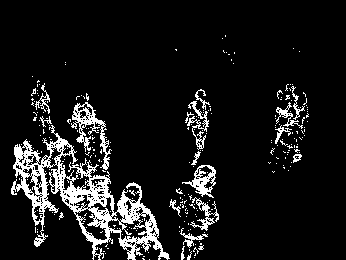person: (11, 143, 61, 247), (172, 162, 222, 258), (67, 175, 114, 254), (118, 182, 162, 260), (76, 102, 115, 169), (185, 86, 209, 166), (45, 135, 74, 191), (29, 78, 55, 138), (292, 90, 308, 163), (276, 83, 290, 145)
